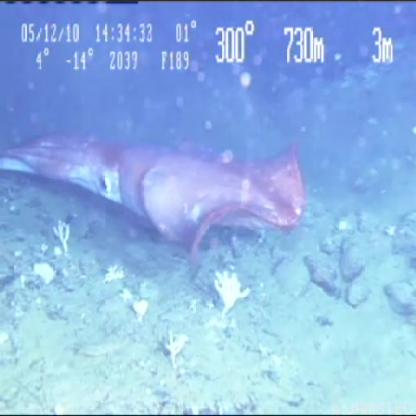Bio: (1, 125, 309, 261), (212, 267, 252, 319), (160, 327, 194, 372), (49, 220, 73, 254)
